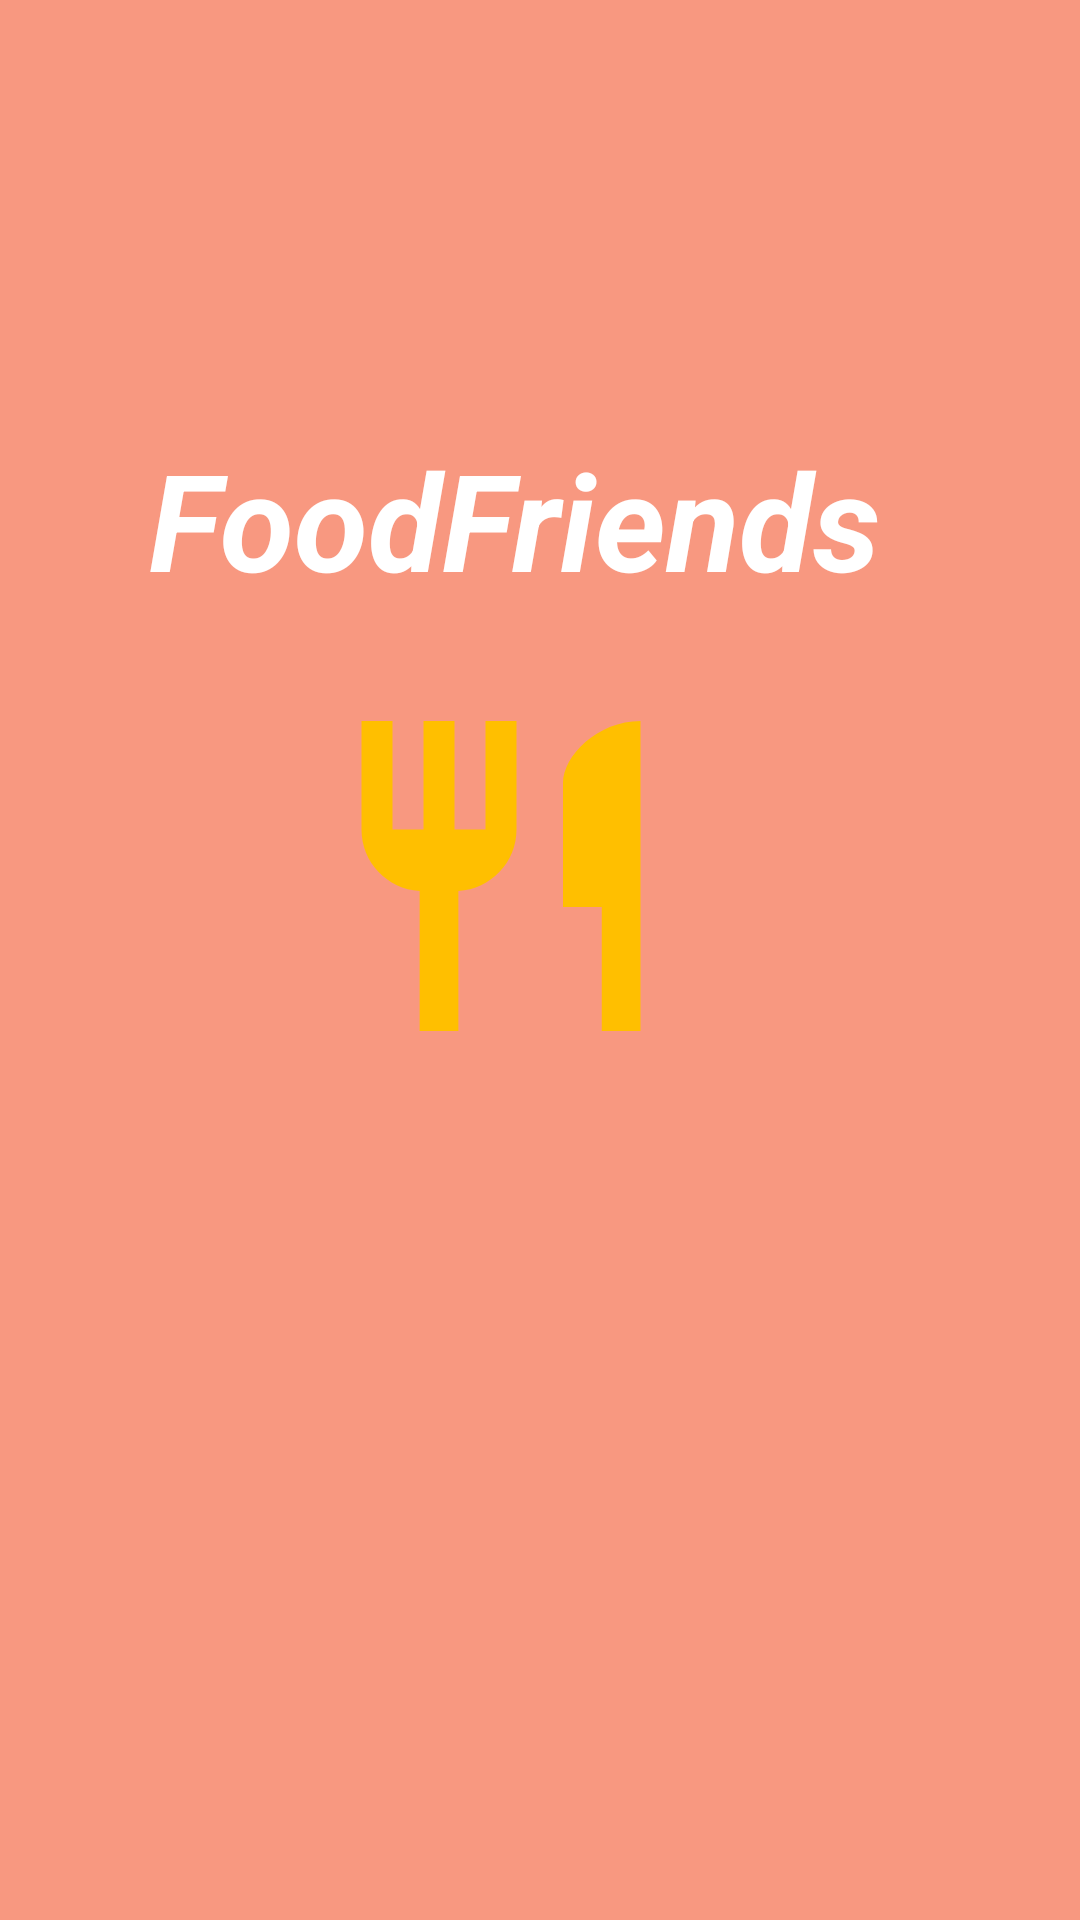

Icon click points for this 1080 × 1920 phone screenshot, format point (x, y):
restaurant: point (501, 876)
